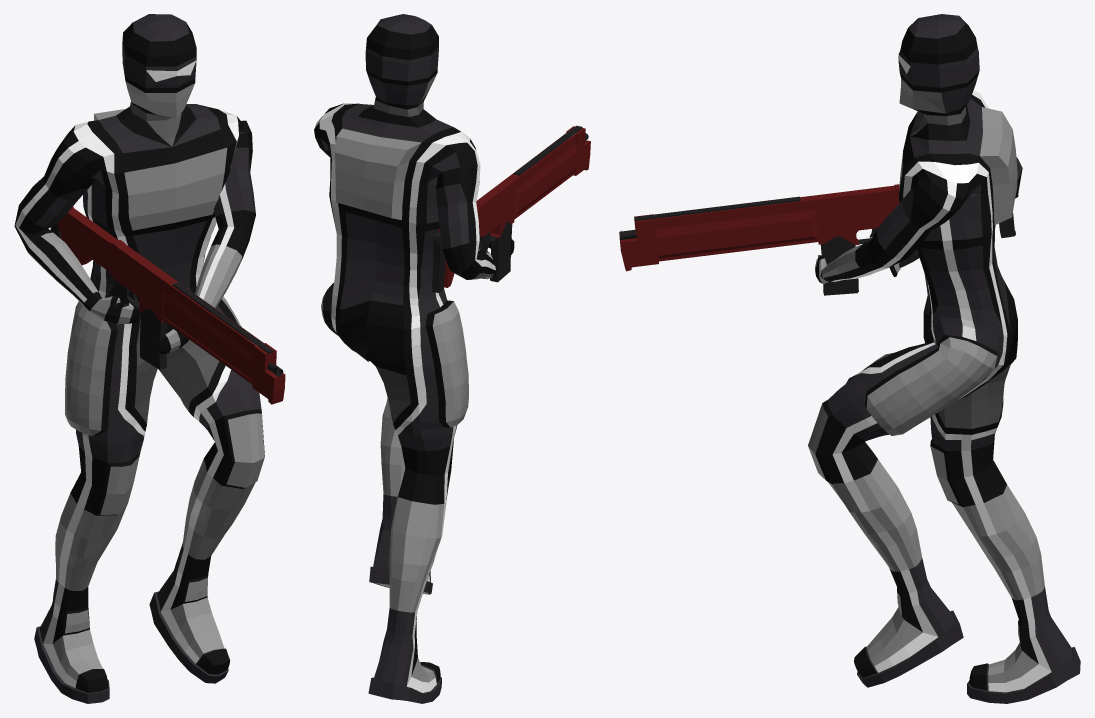
Rendered from MCR6.obj.
3 renders of one model, left to right at view 1: azimuth 30°, elevation 25°; view 2: azimuth 150°, elevation 25°; view 3: azimuth 270°, elevation 25°, orthographic. The views are drawn at different scales.
Visible parts, largest first — view 1: metarig_object_metarig_mesh, Cube.001; view 2: metarig_object_metarig_mesh, Cube.001; view 3: metarig_object_metarig_mesh, Cube.001.
Part boxes in pixels (left/top/right/bottom): metarig_object_metarig_mesh: left=14, top=14, right=264, bottom=703; Cube.001: left=50, top=206, right=285, bottom=404; metarig_object_metarig_mesh: left=314, top=14, right=514, bottom=703; Cube.001: left=431, top=125, right=590, bottom=292; metarig_object_metarig_mesh: left=808, top=14, right=1080, bottom=703; Cube.001: left=619, top=184, right=1015, bottom=295.
Size of the model in its own units: 0.5254 by 1.72 by 1.03.
2 materials, 2 textured.
